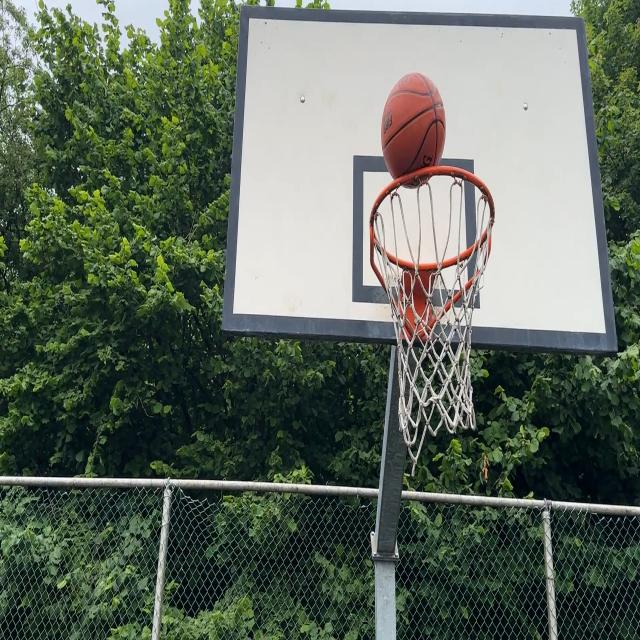rebound_hit: (381, 73, 445, 190)
